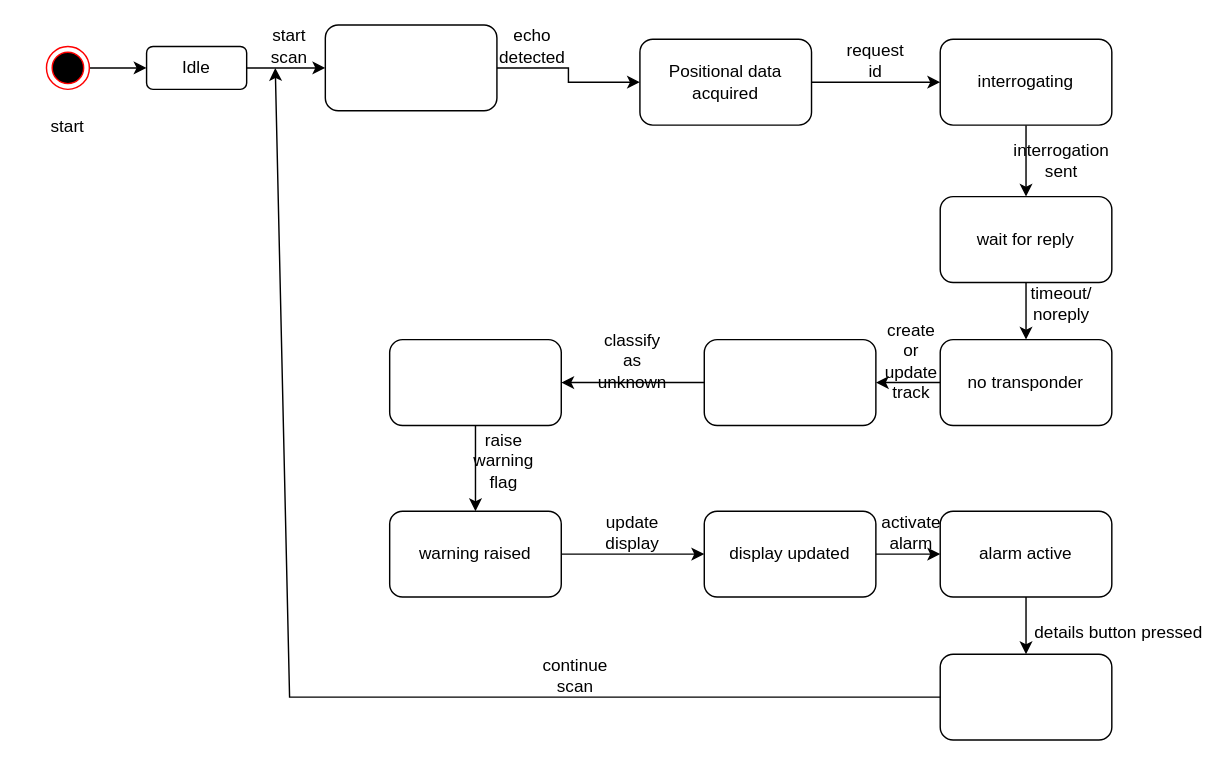
Image size: 1228x765. Some labels were removed from this diagram. Here are the shapes that lost their labels. From the top down, the box of each, then its label:
(324, 24, 497, 111): Scanning
(388, 338, 561, 425): unknown
(703, 338, 876, 425): Track created
(939, 653, 1112, 740): showing details
